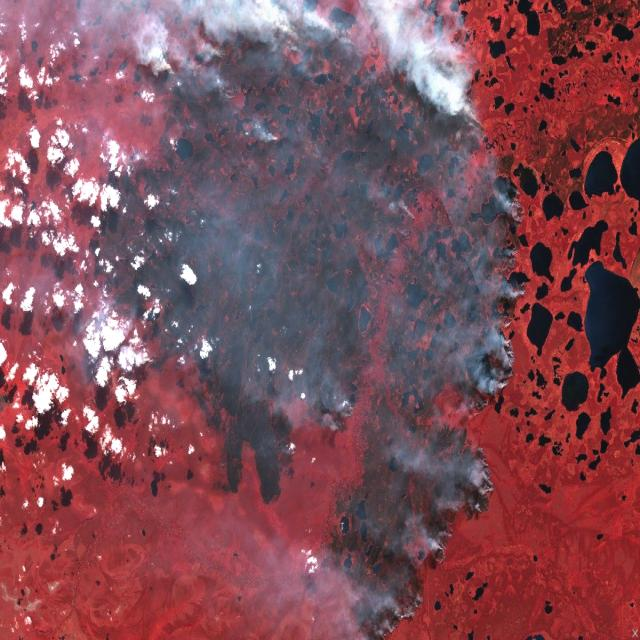fire: (335, 429, 500, 638), (278, 0, 498, 143), (455, 153, 545, 416), (154, 0, 263, 139)
